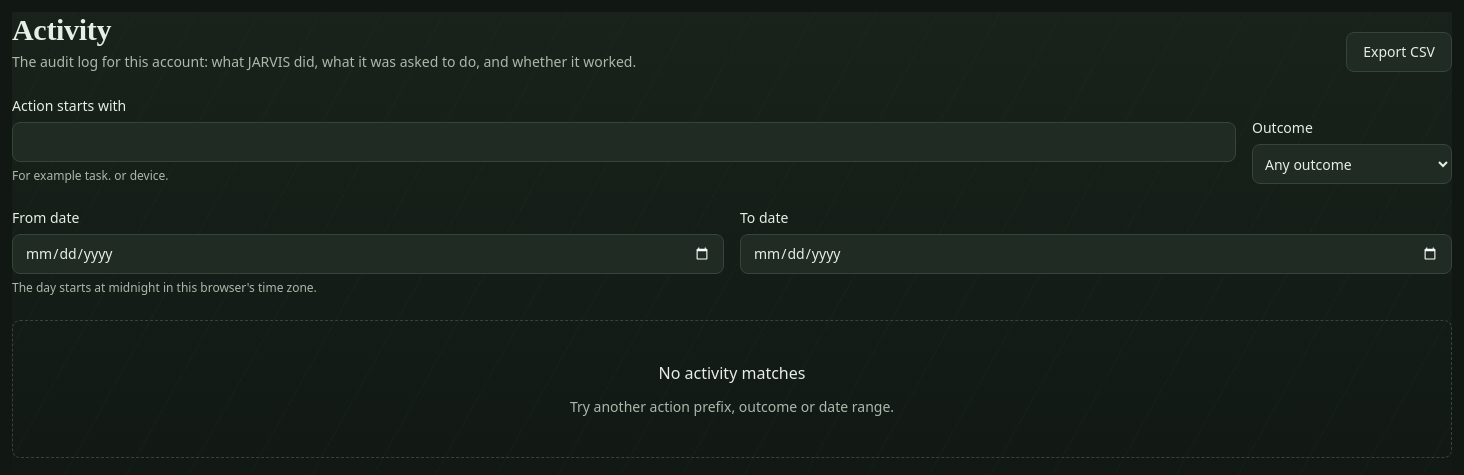
Scenario: Activity date filter › says when the range is backwards and does not send it
The image size is (1464, 475).
Expected: the text "No activity matches" is shown, x1=658 y1=361 x2=805 y2=385
Type "2026-10-09" into the date field labelled "From date".
click(368, 254); type("2026-10-09")  # box x1=12 y1=234 x2=724 y2=274
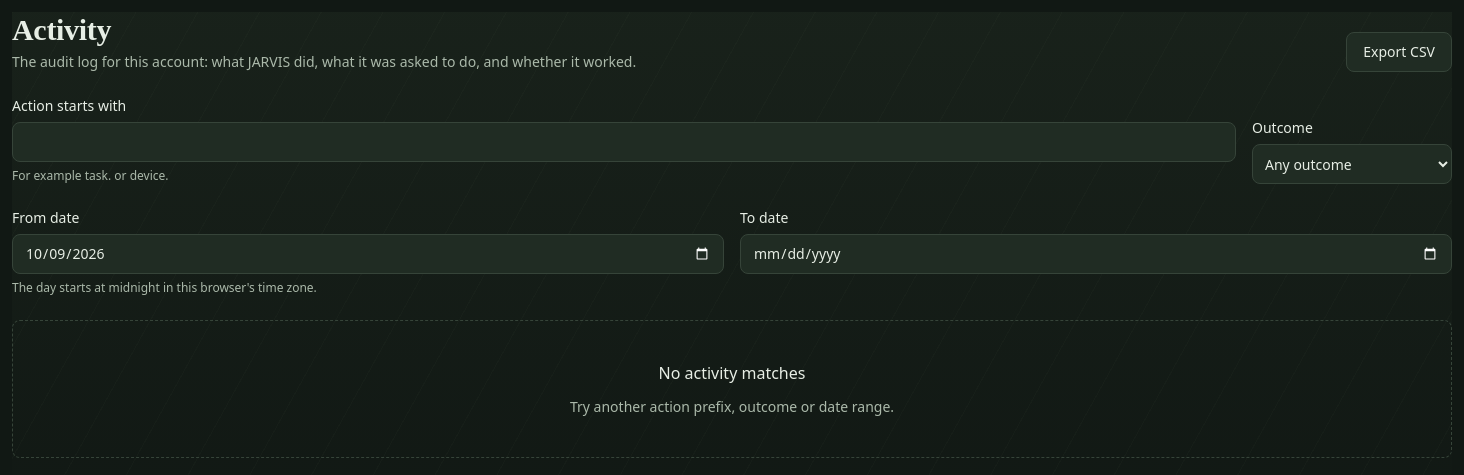
Type "2026-10-01" into the date field labelled "To date".
click(1096, 254); type("2026-10-01")  # box x1=740 y1=234 x2=1452 y2=274
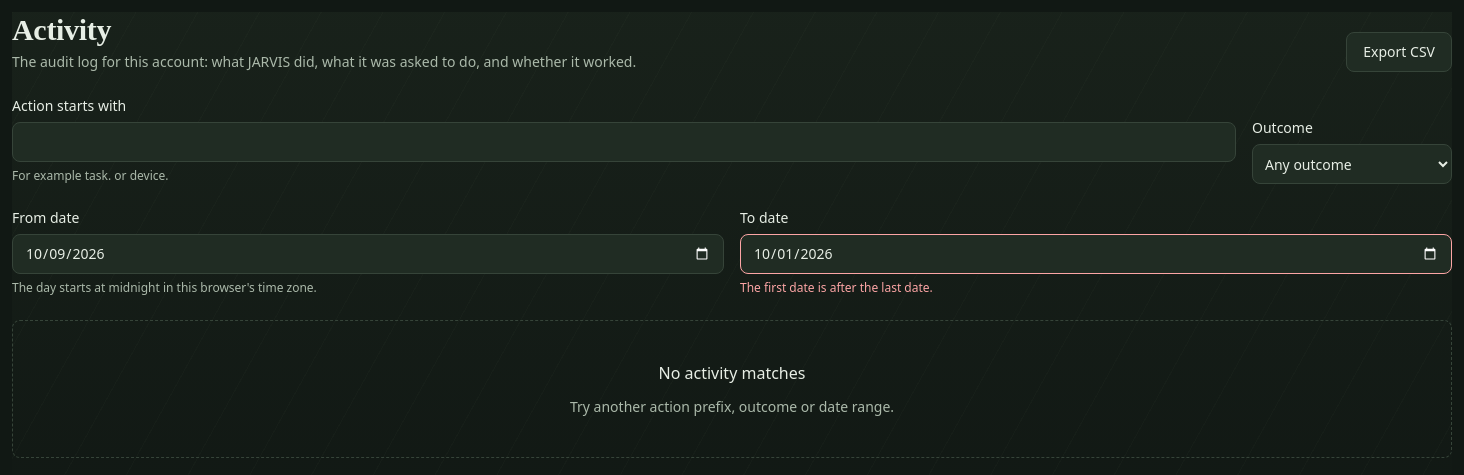
Result: the text "The first date is after the last date." is shown at x1=740 y1=279 x2=933 y2=296
